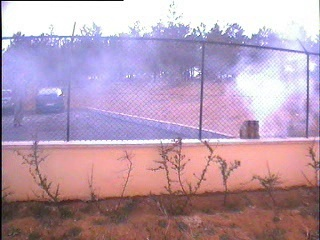smoke: (212, 19, 317, 138)
